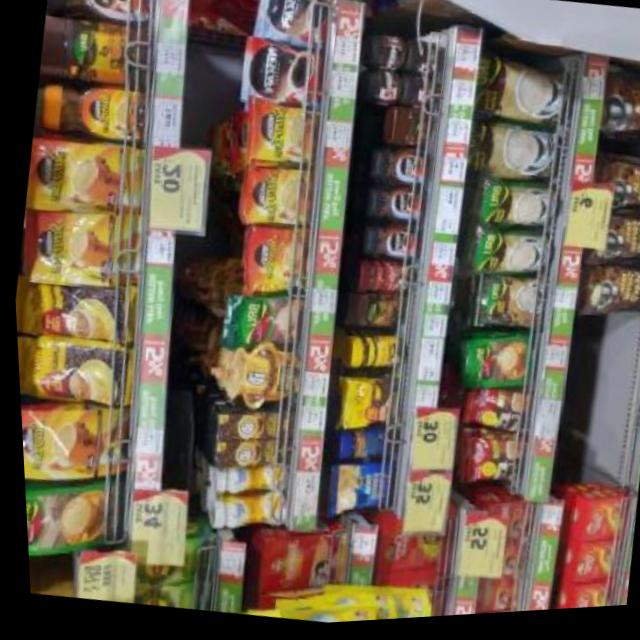Coffee: (20, 131, 148, 222), (12, 205, 138, 293), (16, 398, 126, 491), (34, 78, 149, 147), (237, 41, 324, 110), (242, 101, 320, 173), (238, 167, 317, 235), (236, 229, 304, 300), (259, 0, 332, 48), (44, 0, 154, 28), (367, 147, 428, 194), (363, 188, 426, 230), (357, 225, 417, 268), (404, 43, 444, 82), (362, 74, 403, 111), (365, 39, 405, 76), (402, 80, 437, 114)
